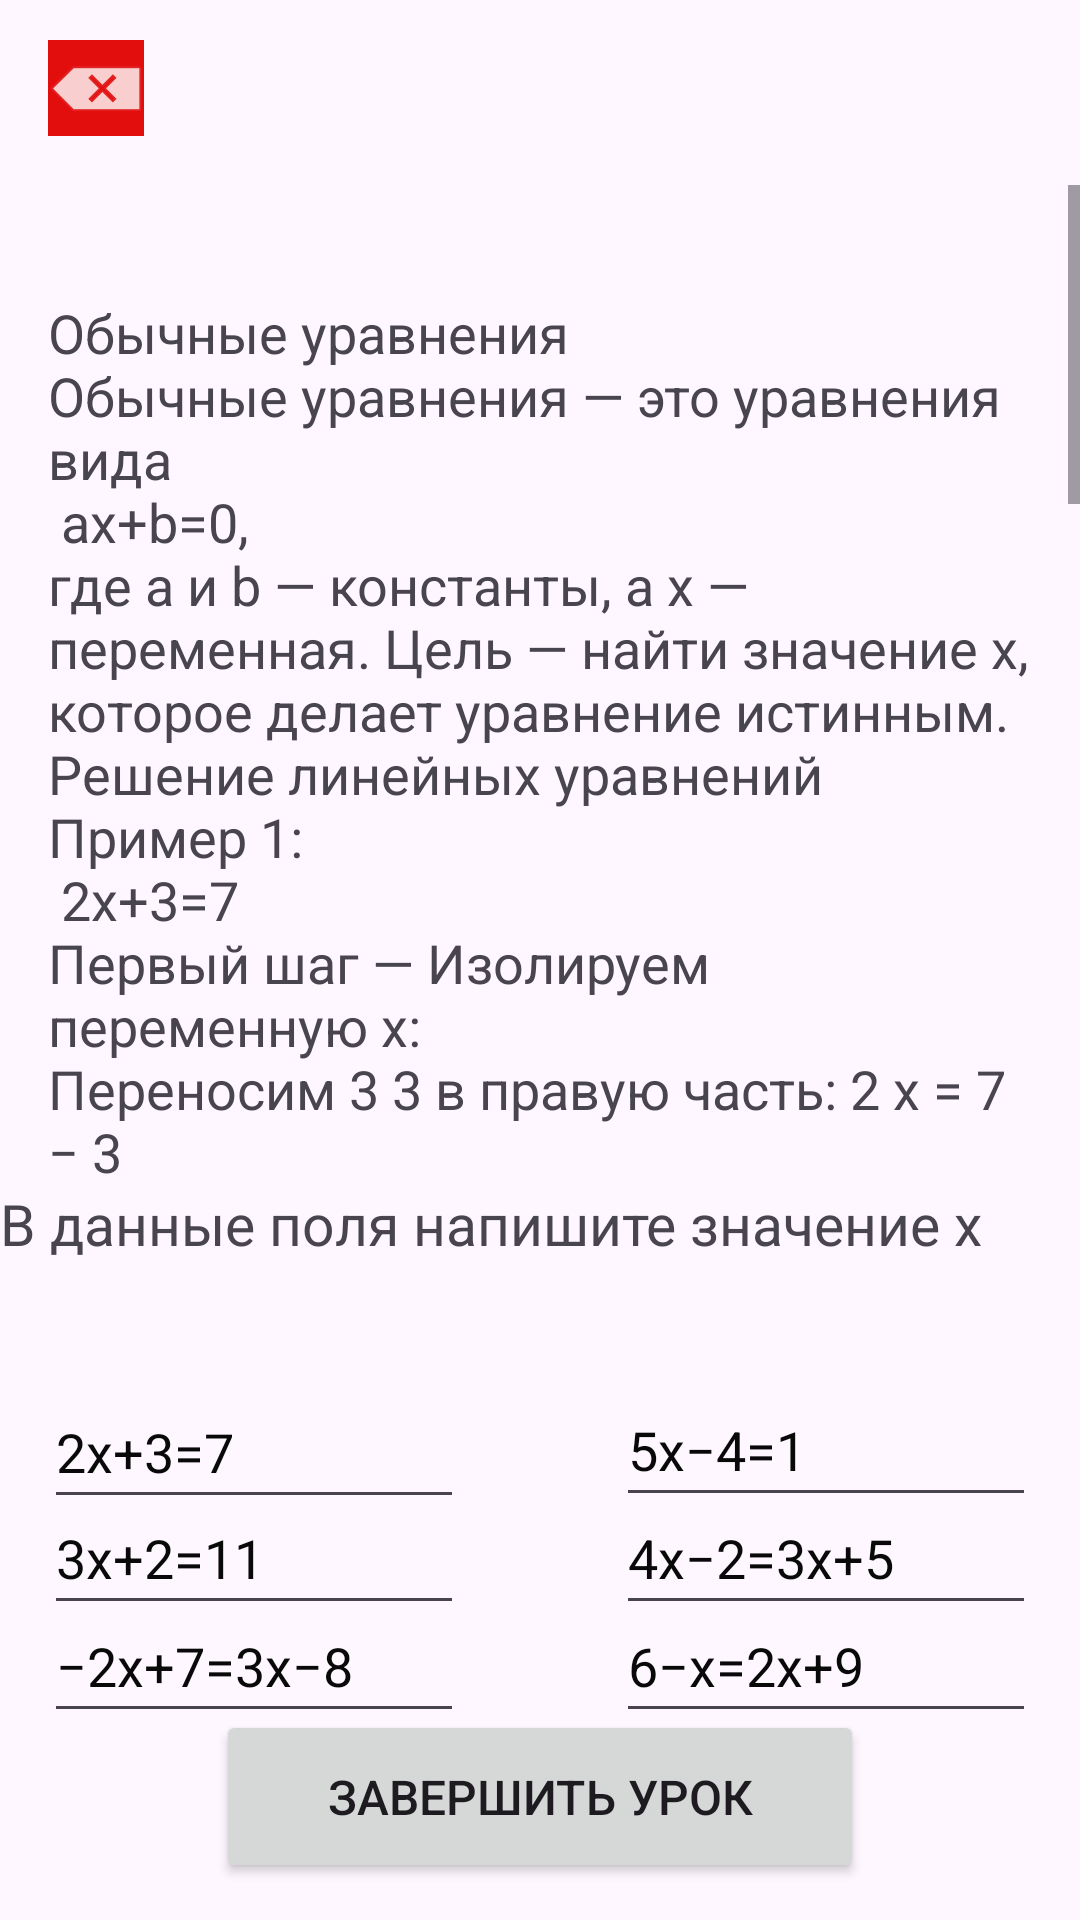

Screen size 1080x1920. Icon name, then its box in pixels as {"x1": x1, "y1": y1, "x2": x2, "y2": y2}:
delete: {"x1": 48, "y1": 40, "x2": 144, "y2": 136}
